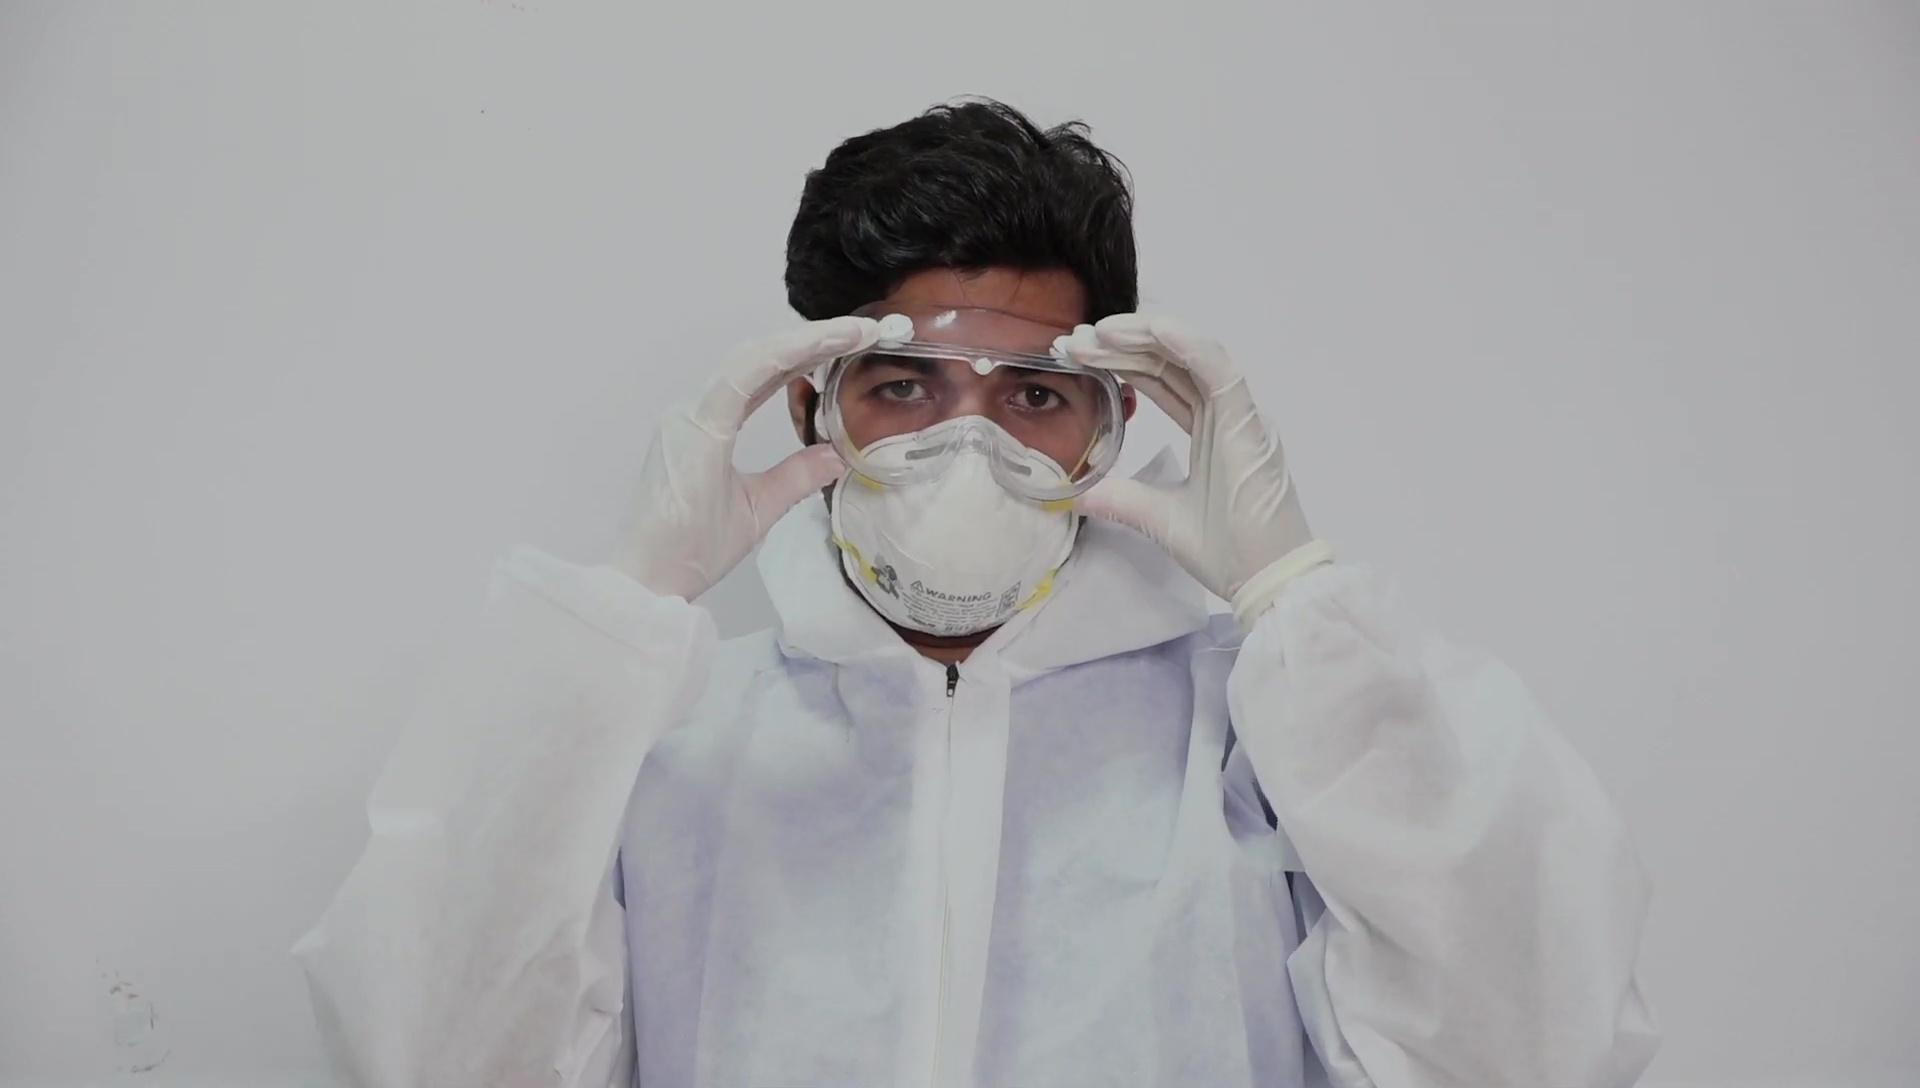Gloves: (597, 317, 882, 603), (1069, 313, 1313, 607)
Goggles: (811, 302, 1127, 510)
